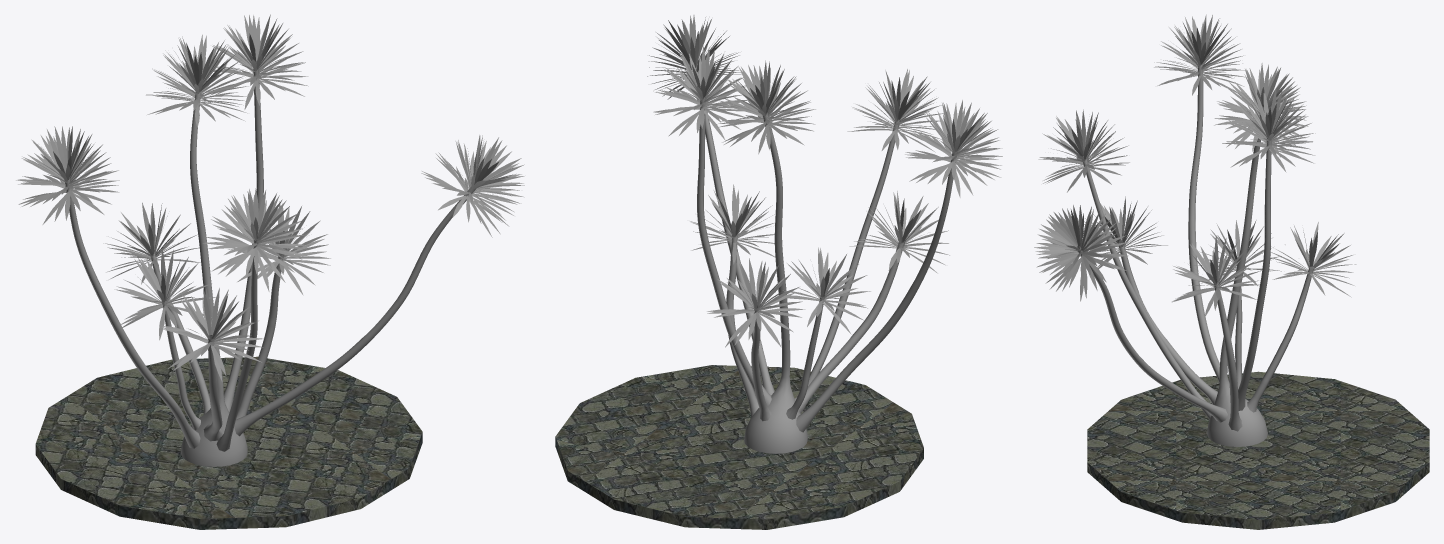
The model's file is treeScene.FBX.
3 renders of one model, left to right at view 1: azimuth 30°, elevation 25°; view 2: azimuth 150°, elevation 25°; view 3: azimuth 270°, elevation 25°, orthographic. The views are drawn at different scales.
Parts seen in each view (by area): view 1: Cylinder001, Foliage001; view 2: Cylinder001, Foliage001; view 3: Cylinder001, Foliage001.
Boxes of the visible parts, left/top/right/bottom form: Cylinder001: left=35, top=356, right=422, bottom=529; Foliage001: left=16, top=14, right=524, bottom=466; Cylinder001: left=555, top=365, right=923, bottom=529; Foliage001: left=647, top=15, right=1002, bottom=453; Cylinder001: left=1087, top=371, right=1429, bottom=529; Foliage001: left=1034, top=14, right=1356, bottom=446.
Bounding box in the file's own units: 205 × 181 × 190.
Materials: 2 (1 with a texture image).
